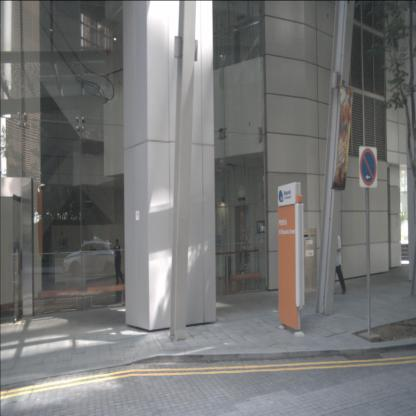human-pedestrian-adult: (326, 224, 347, 294), (114, 238, 125, 284)
